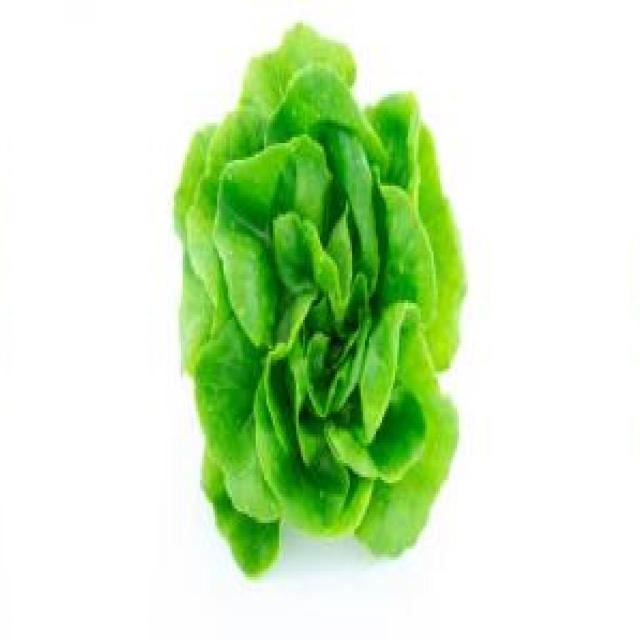healthy: (168, 22, 470, 580)
